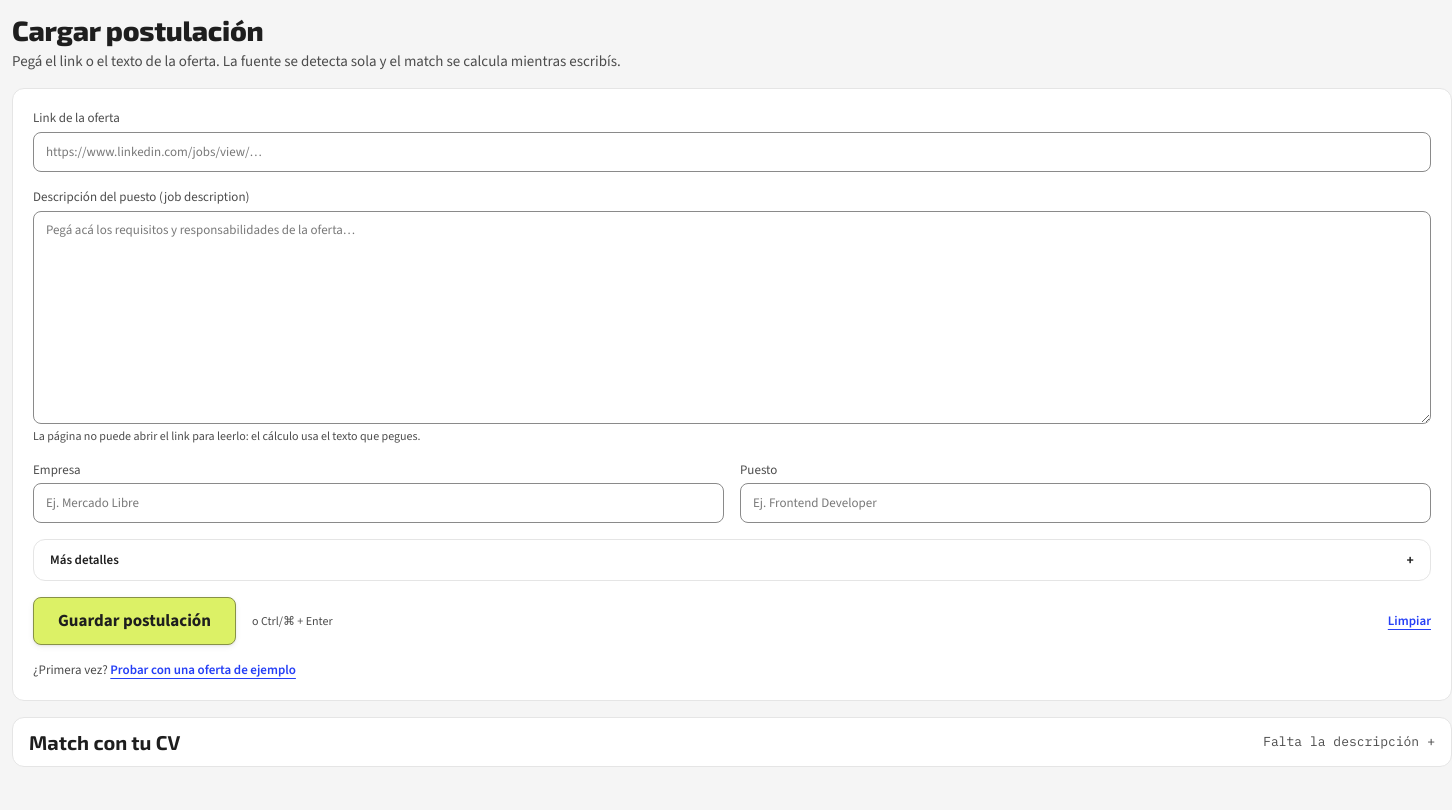
Test: NewOfferTab › offers the example only while the form is empty, and keeps it out of the main actions
expect the button "Probar con una oferta de ejemplo" is shown: met, box [110,661,296,680]
Type "Acme" into the field labelled "Empresa" at (378,503), box [33,483,724,523]
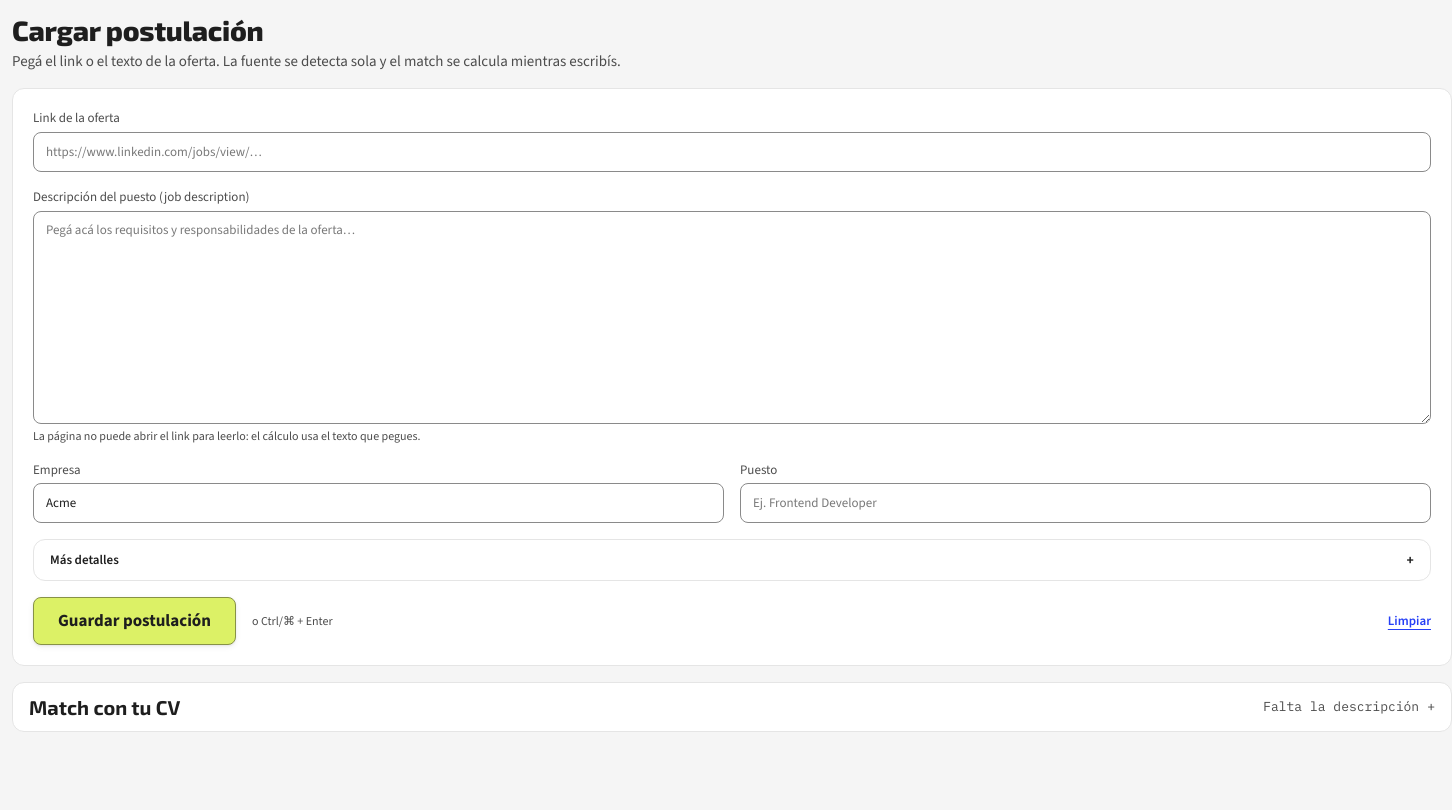
expect the button "Probar con una oferta de ejemplo" is gone: met
